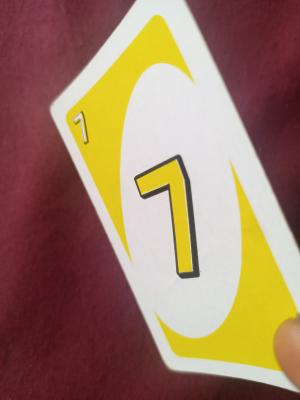num_7: (131, 150, 221, 282), (71, 104, 119, 154)
